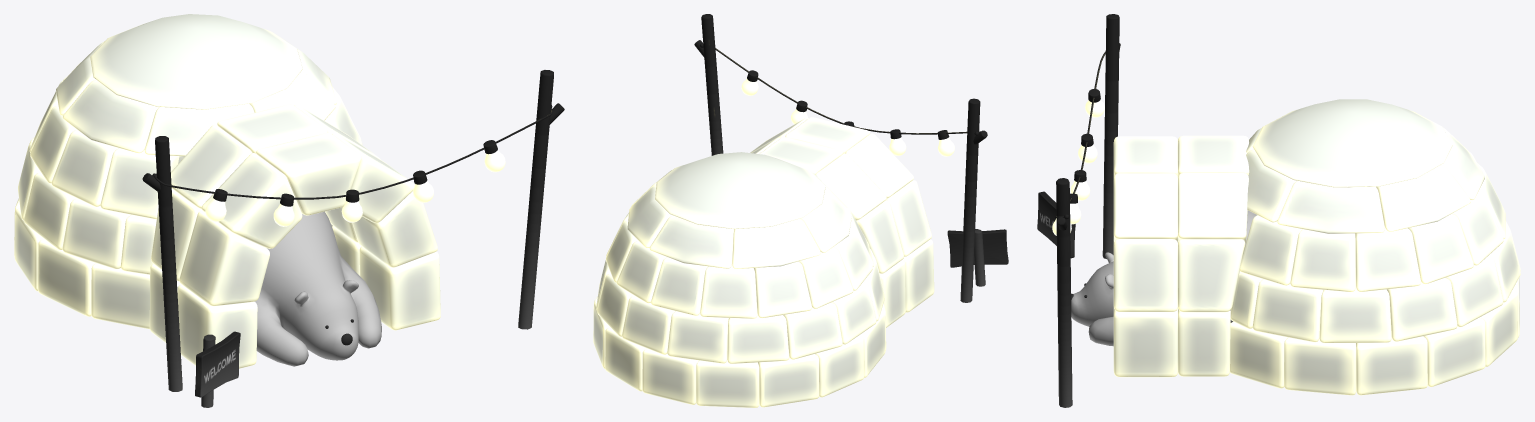
The picture shows the model from 3 angles, left to right: view 1: azimuth 30°, elevation 25°; view 2: azimuth 150°, elevation 25°; view 3: azimuth 270°, elevation 25°; orthographic projection. The views are drawn at different scales.
Parts seen in each view (by area): view 1: igloo, bear; view 2: igloo; view 3: igloo, bear.
Part boxes in pixels (x1,y1,x2,y2): igloo: (14, 14, 564, 407); bear: (254, 211, 381, 366); igloo: (593, 14, 1008, 407); igloo: (1037, 14, 1520, 407); bear: (1071, 210, 1256, 346).
Size of the model in its own units: 0.6776 by 0.4197 by 0.7768.
Materials: 2 (2 with a texture image).
